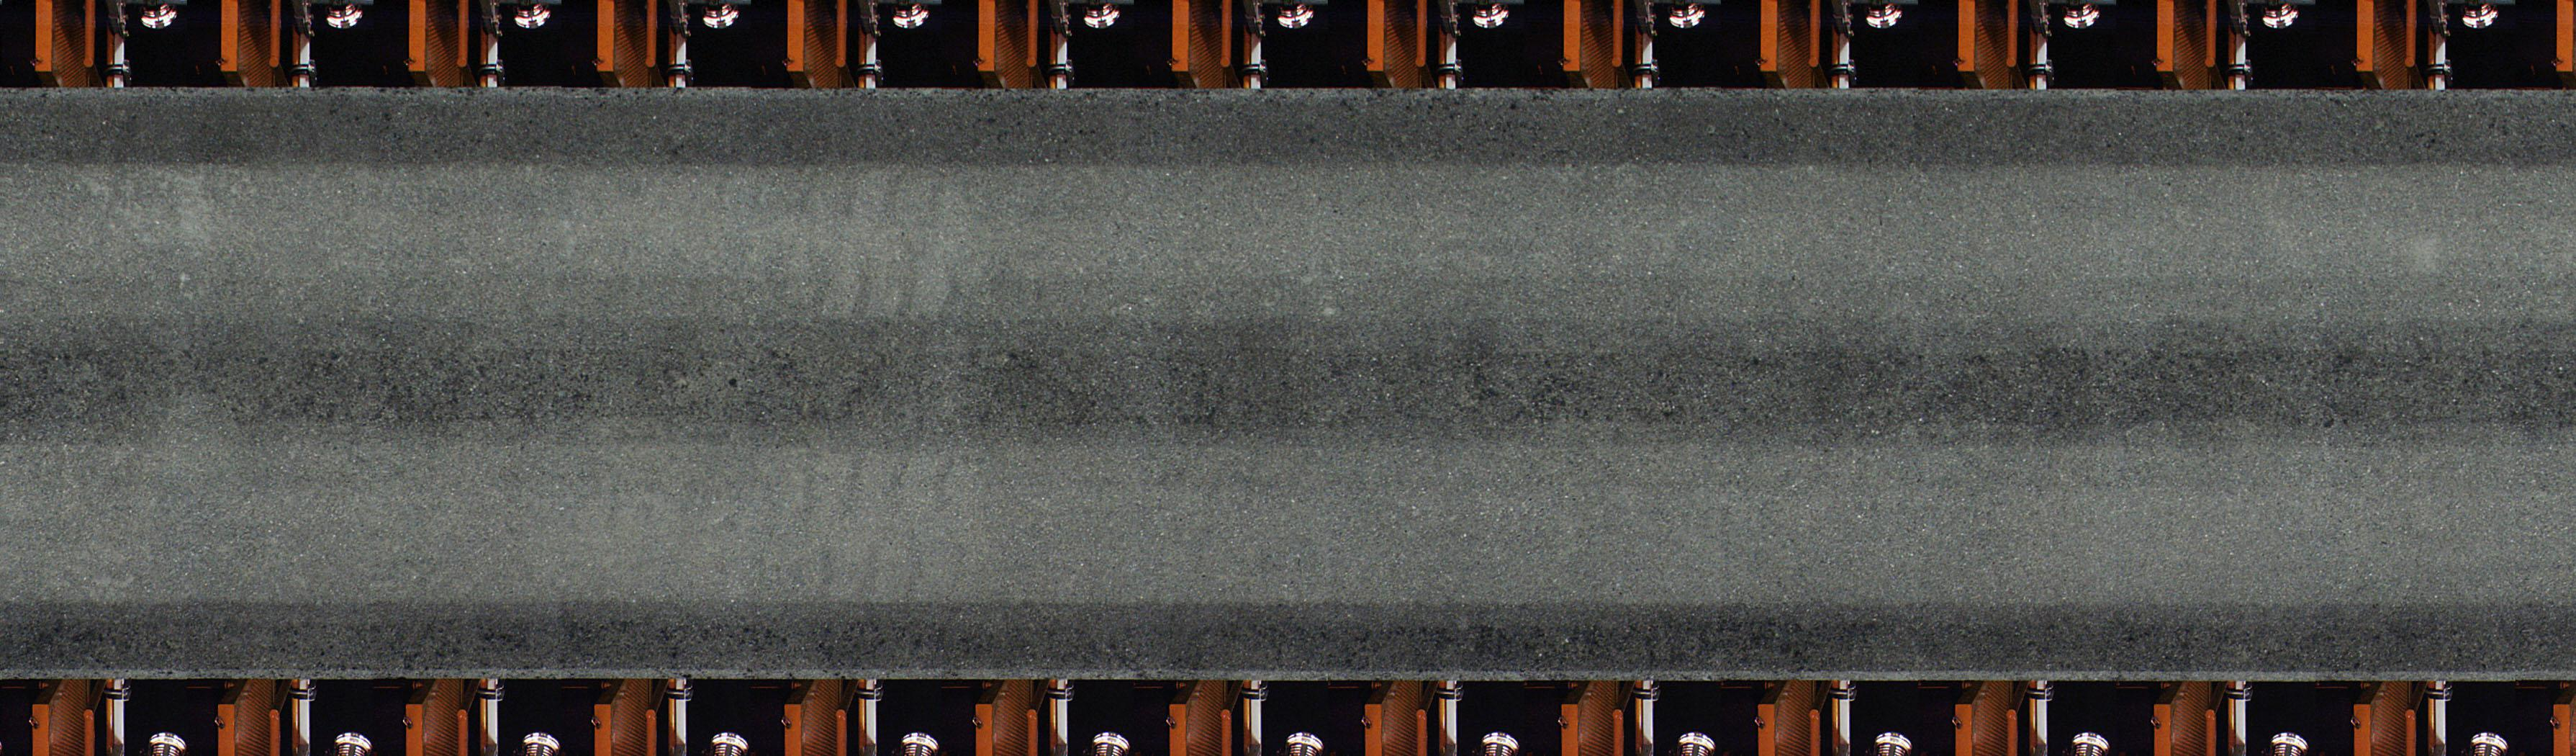concrete: (0, 89, 2563, 669)
